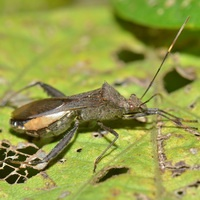insect: (0, 8, 199, 199), (8, 79, 127, 139)
